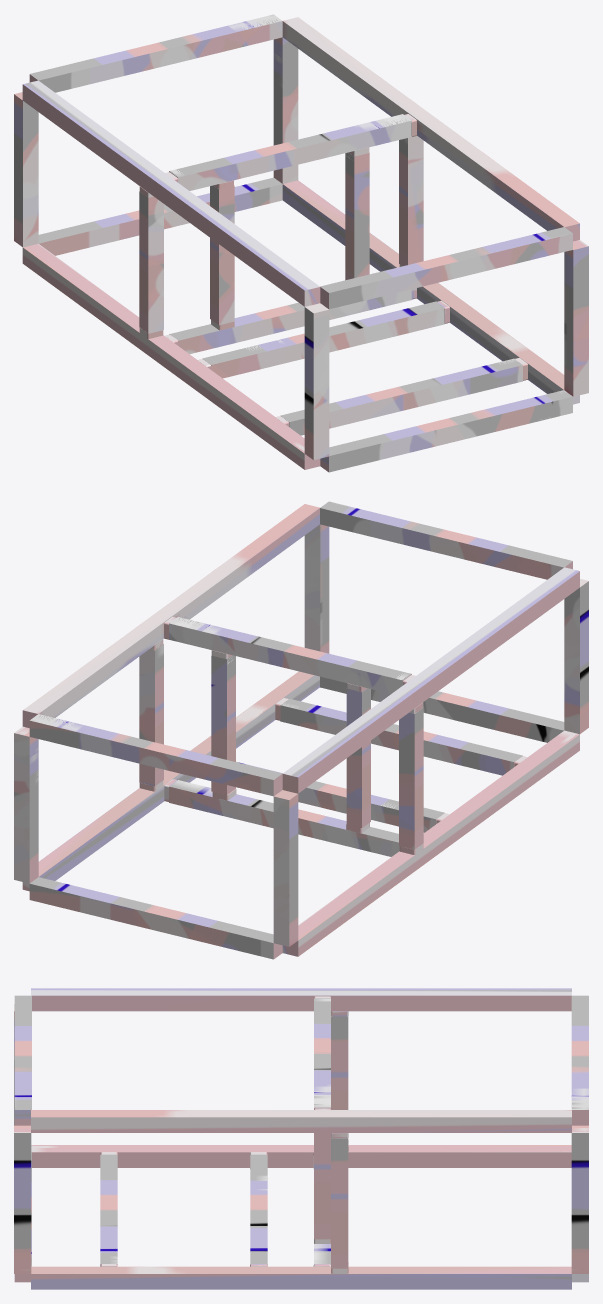
The model's file is mower.glb.
3 views of the same model, one above another, from view 1: azimuth 30°, elevation 25°; view 2: azimuth 150°, elevation 25°; view 3: azimuth 270°, elevation 25° (orthographic). The views are drawn at different scales.
Visible parts, largest first — view 1: Cube.058; view 2: Cube.058; view 3: Cube.058.
Part boxes in pixels (x1,y1,x2,y2): Cube.058: (14,14,588,472); Cube.058: (14,501,588,959); Cube.058: (14,988,588,1289).
Size of the model in its own units: 265 by 165 by 499.
1 material, 1 textured.
